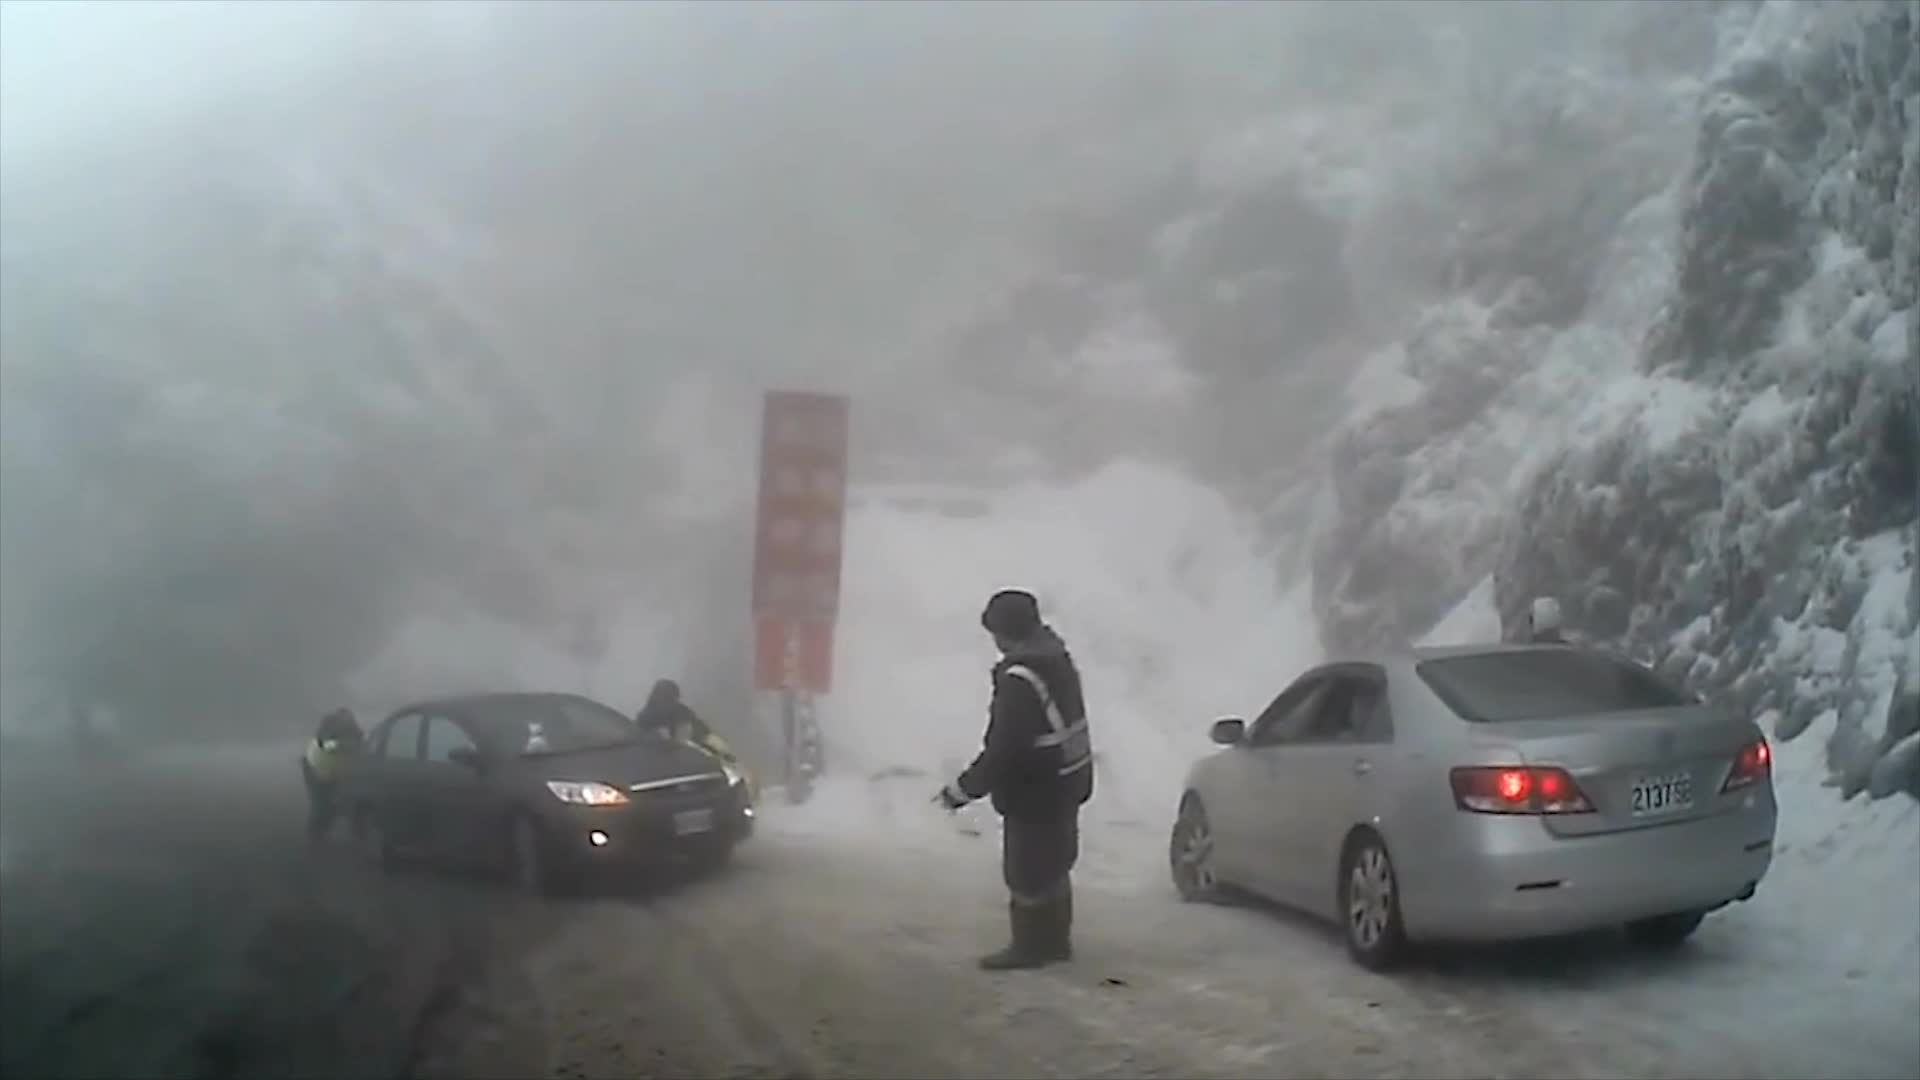pedestrian: (929, 591, 1095, 970), (1505, 593, 1599, 835), (641, 679, 735, 815), (303, 715, 370, 850)
vehicle: (1167, 636, 1774, 965), (339, 690, 760, 899)
